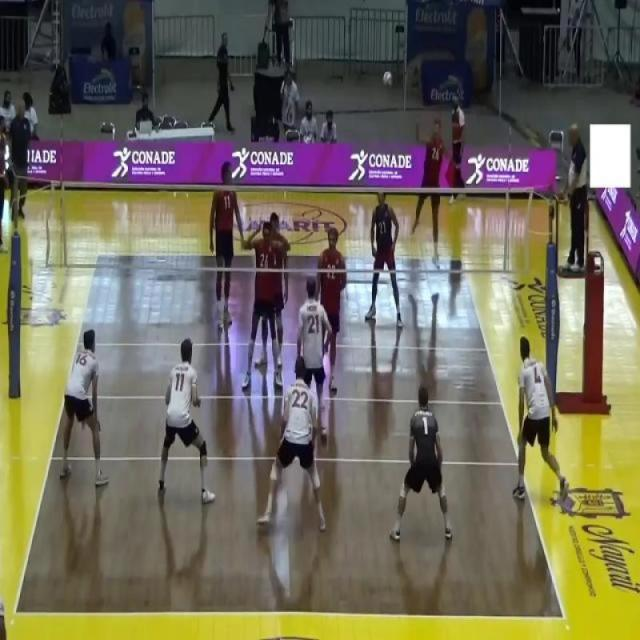volleyball: (383, 70, 393, 90)
